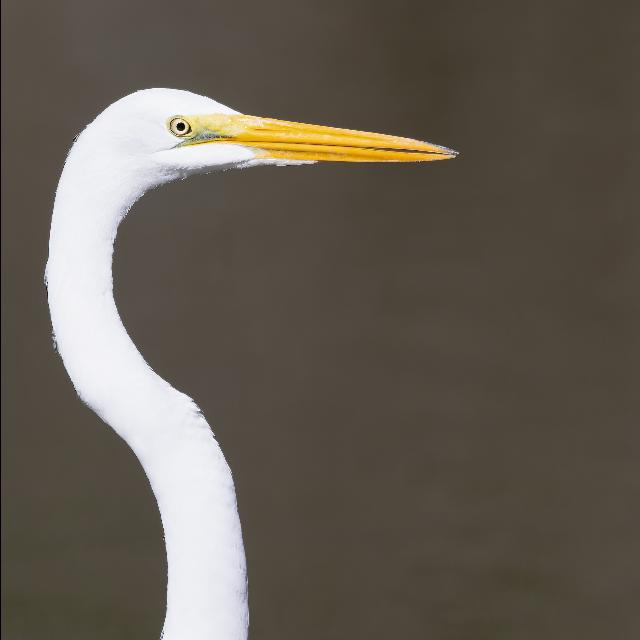egret: (43, 66, 461, 640)
